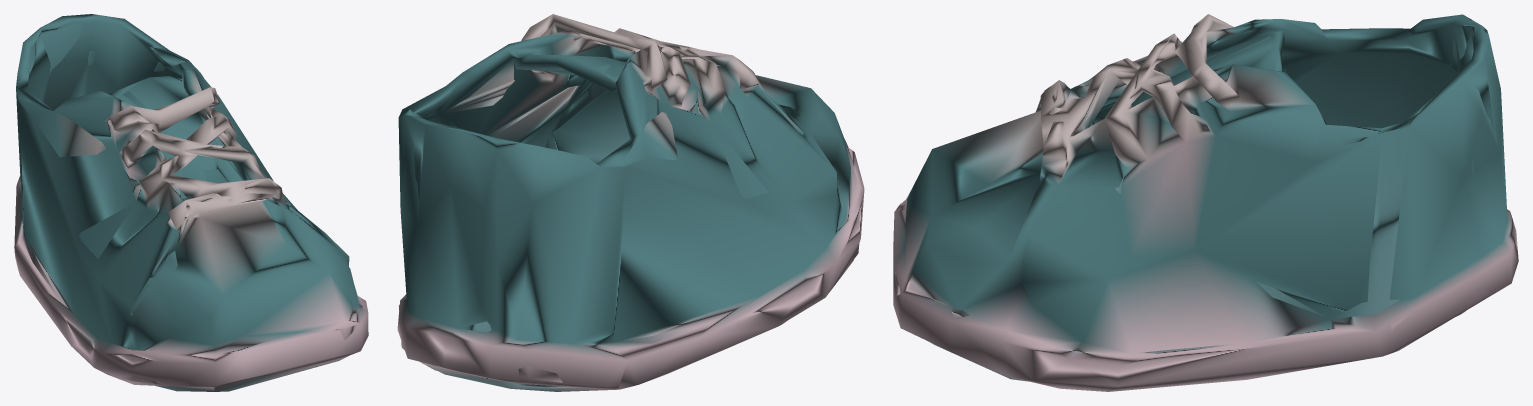
The model's file is gen3d-shoe-lod1.glb.
3 views of the same model, side by side, from view 1: azimuth 30°, elevation 25°; view 2: azimuth 150°, elevation 25°; view 3: azimuth 270°, elevation 25° (orthographic). The views are drawn at different scales.
Parts seen in each view (by area): view 1: part_0; view 2: part_0; view 3: part_0.
Boxes of the visible parts, bbox=[...] form: part_0: bbox=[14, 14, 368, 391]; part_0: bbox=[397, 14, 864, 391]; part_0: bbox=[893, 14, 1518, 391].
Size of the model in its own units: 1.18 by 0.9966 by 2.
